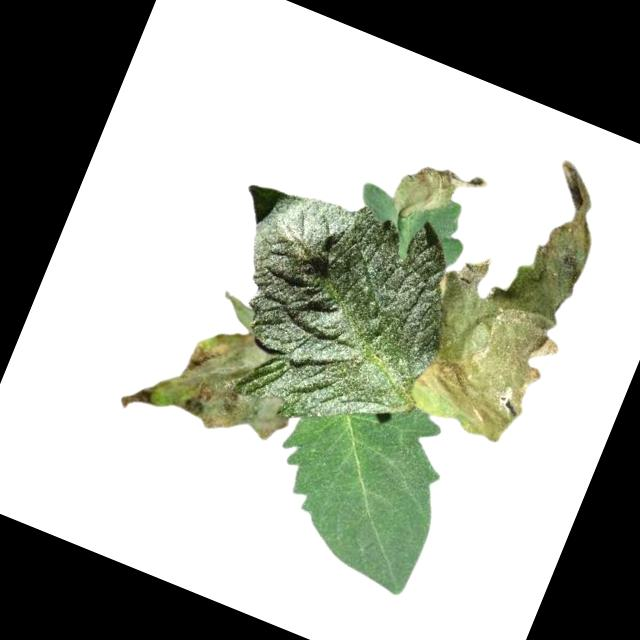Late_blight: (399, 134, 629, 453), (119, 295, 315, 466), (384, 148, 491, 245)
healthy: (173, 156, 479, 461), (247, 368, 470, 598)
